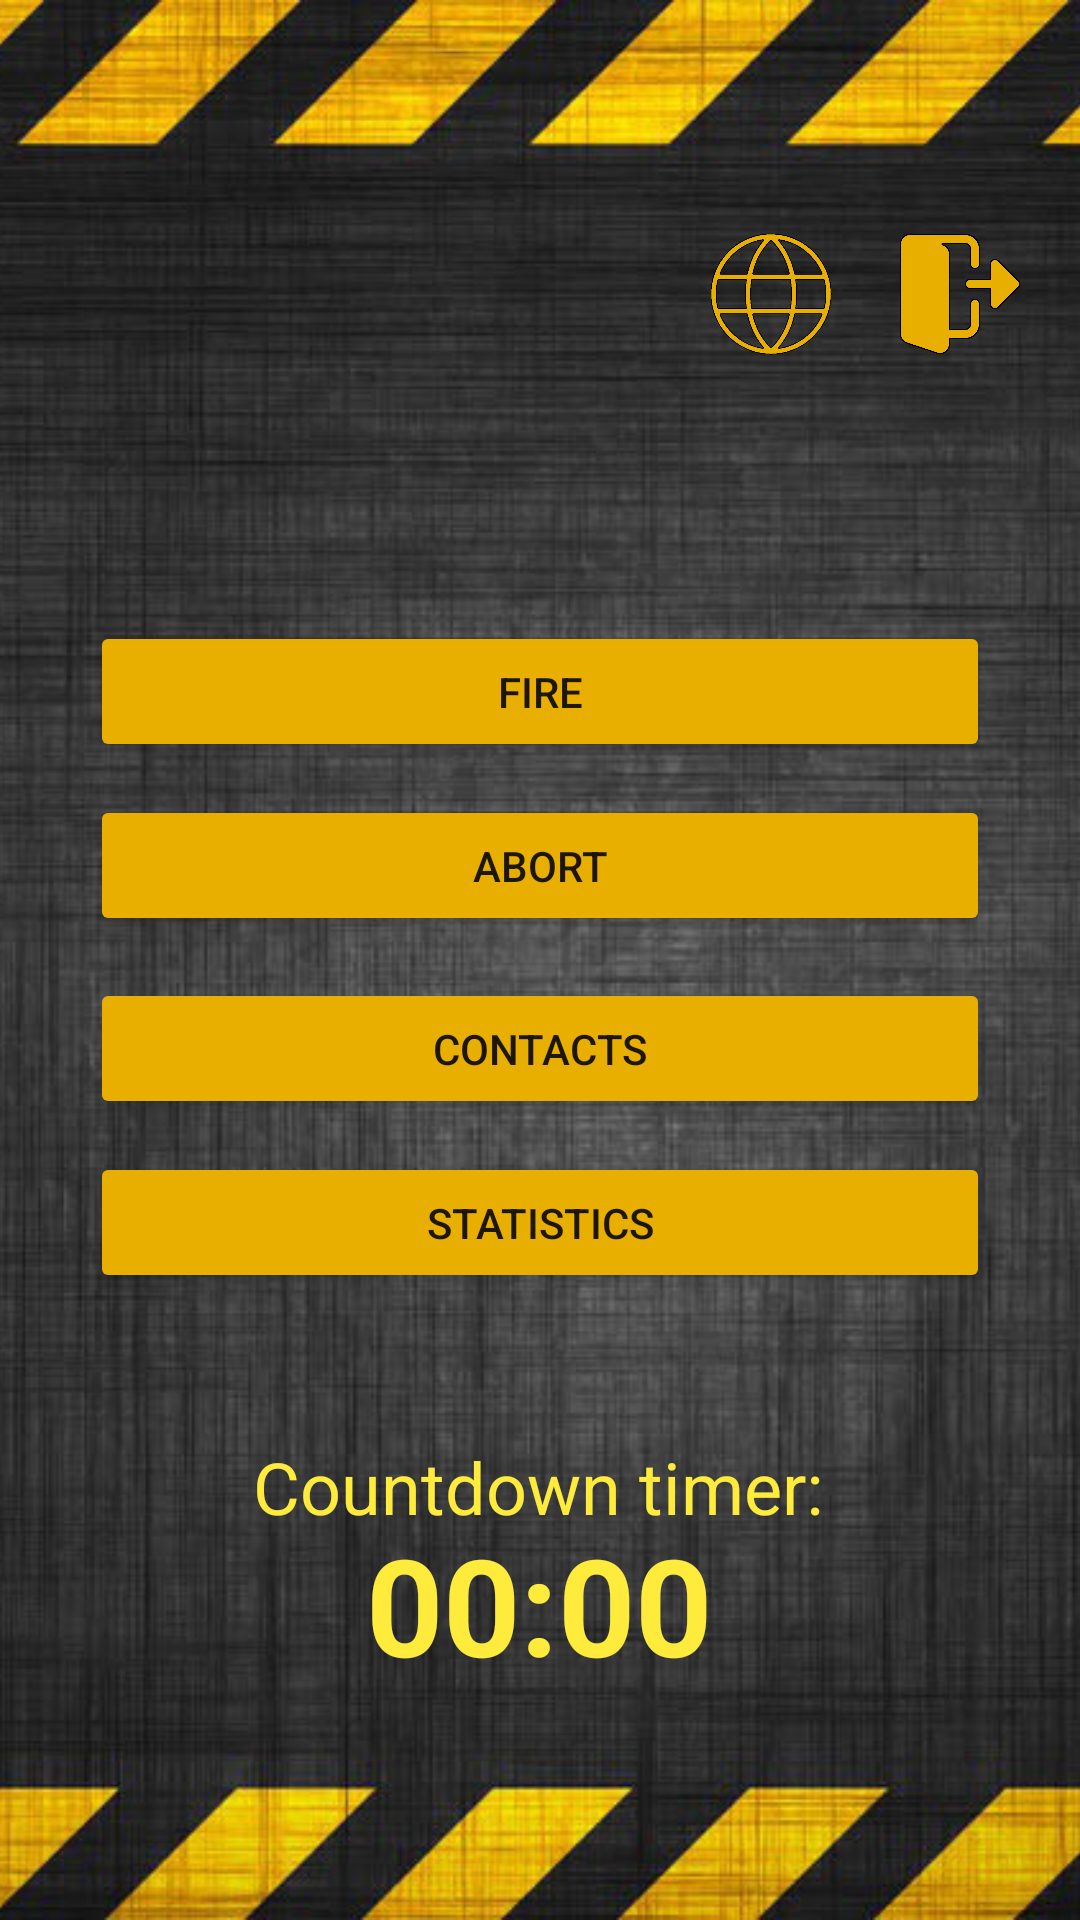

Screen size 1080px×1920px. Icon name, then its center in pixels as (x,y):
change lang: (767,294)
